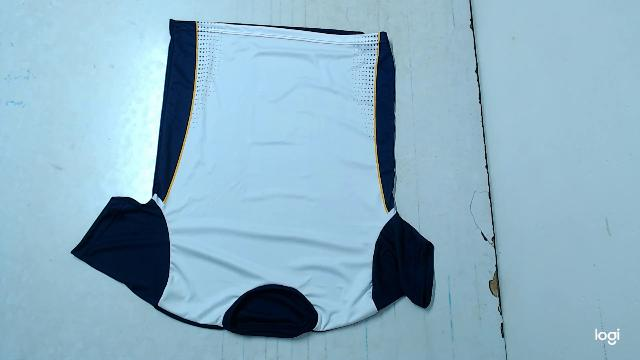new-garment: (72, 21, 434, 337)
